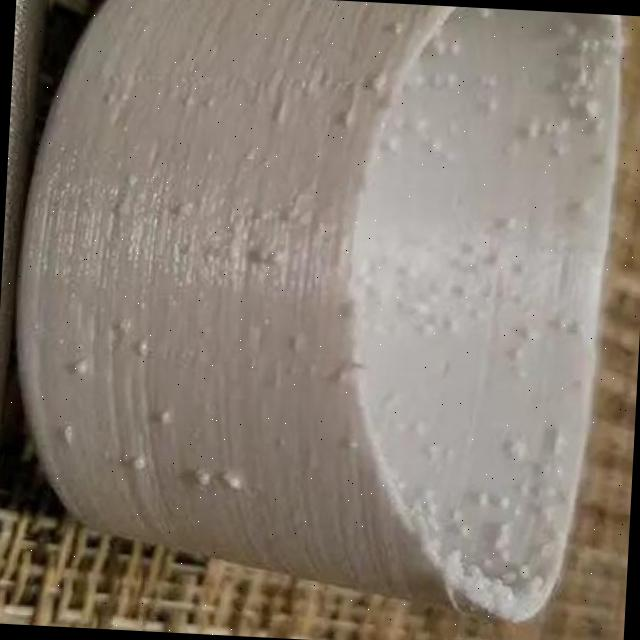blobs: (577, 88, 610, 121), (72, 350, 99, 383), (188, 463, 220, 490), (152, 404, 179, 434), (336, 100, 362, 131), (112, 313, 145, 337), (57, 418, 83, 448), (131, 448, 155, 477), (222, 463, 247, 490), (500, 558, 522, 586), (498, 210, 524, 233), (449, 281, 472, 307), (132, 336, 156, 359), (267, 242, 286, 271), (367, 70, 389, 95), (466, 487, 492, 508), (523, 115, 543, 142), (172, 202, 200, 221), (484, 90, 506, 114), (440, 68, 462, 92), (386, 16, 406, 42), (288, 332, 310, 355), (506, 441, 530, 462), (566, 315, 587, 338), (342, 432, 364, 453), (487, 492, 509, 511), (505, 344, 528, 359), (521, 322, 536, 343)
